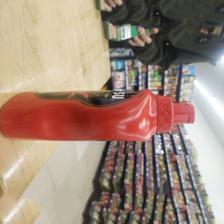Chinsu: (1, 90, 196, 145)
